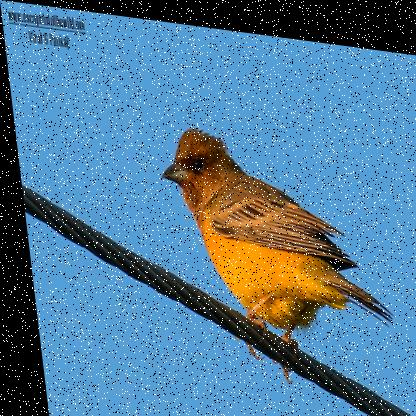Burung: (152, 120, 392, 393)
